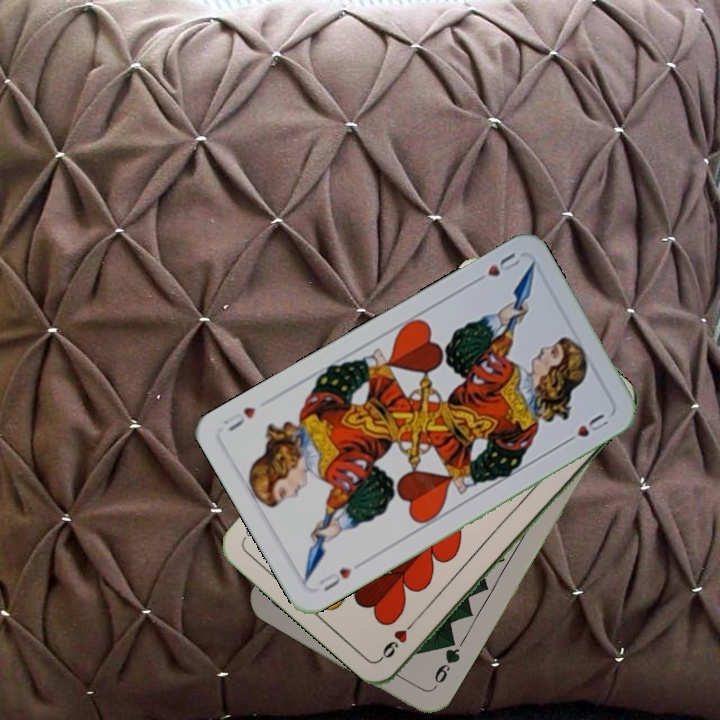G9: (430, 636, 463, 686)
H9: (376, 614, 420, 662)
HU: (469, 248, 523, 287), (315, 563, 355, 594)
